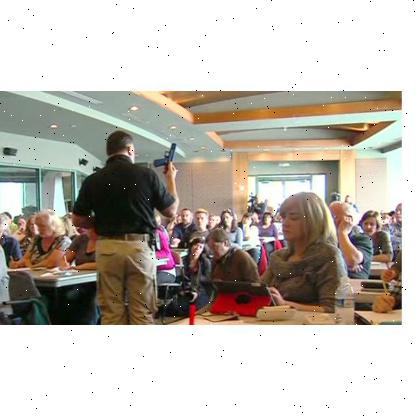gun: (152, 140, 176, 170)
